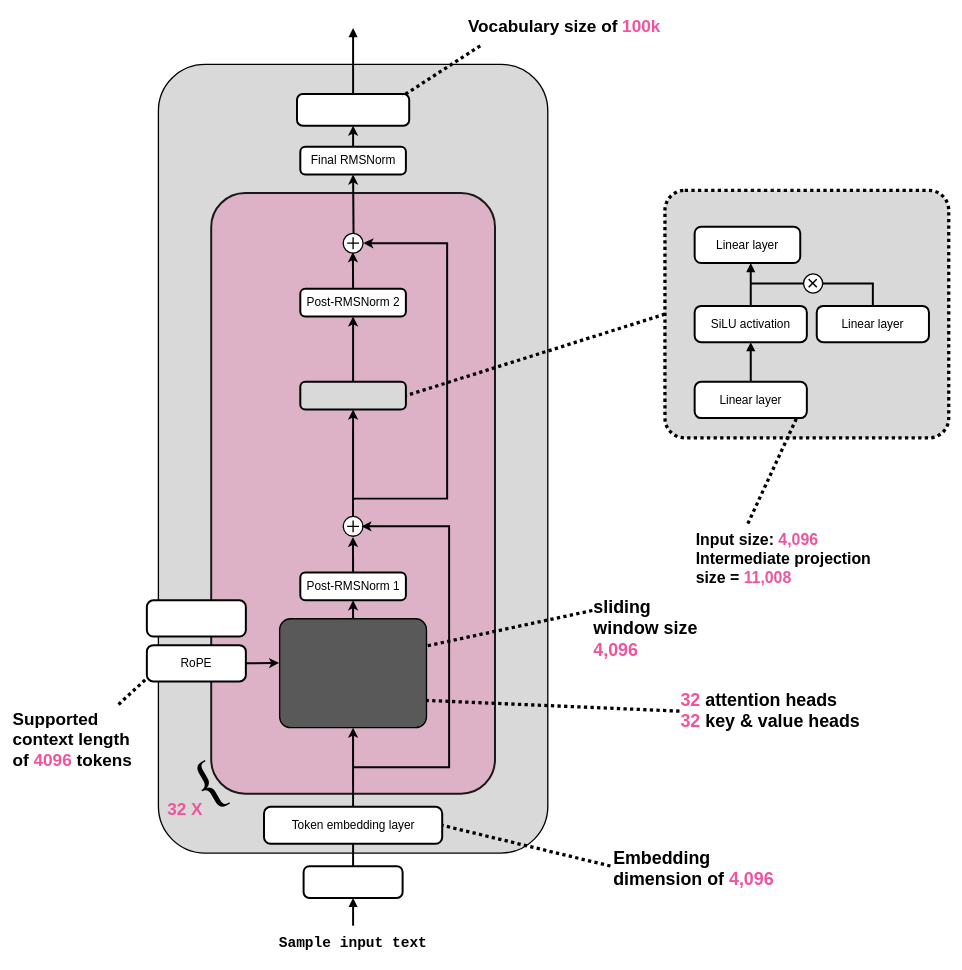
Some shapes in this 962 by 970 pixel diagram are drawn without their labels. The centre of each missing label's shape, as x and y in pixels:
Feed forward: [353,395]
Linear output layer: [353,109]
Multi-head attention: [353,673]
QKNorm: [196,618]
Tokenized text: [352,882]
